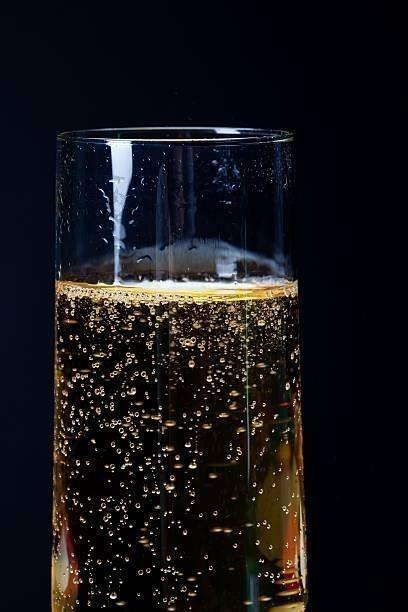glass-normal: (43, 120, 318, 612)
